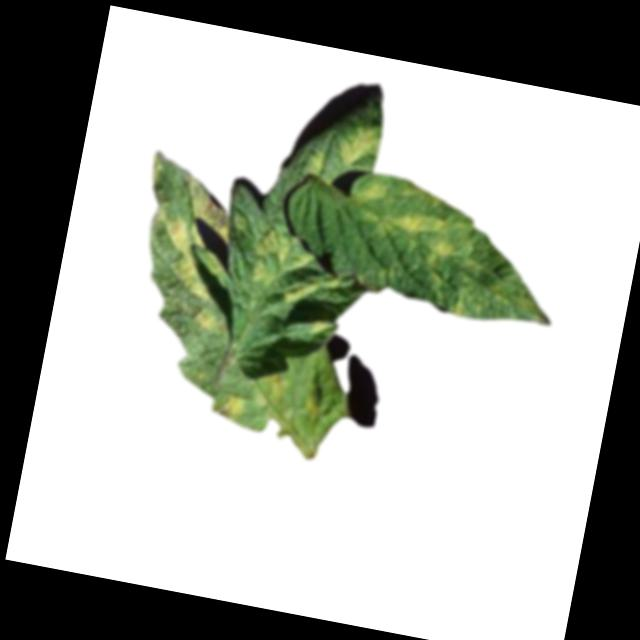Leaf_Mold: (240, 224, 353, 312), (378, 201, 466, 268), (179, 175, 238, 241), (334, 121, 385, 170), (169, 256, 218, 304), (158, 219, 199, 257), (353, 172, 392, 211), (209, 387, 251, 423), (185, 305, 227, 336)
